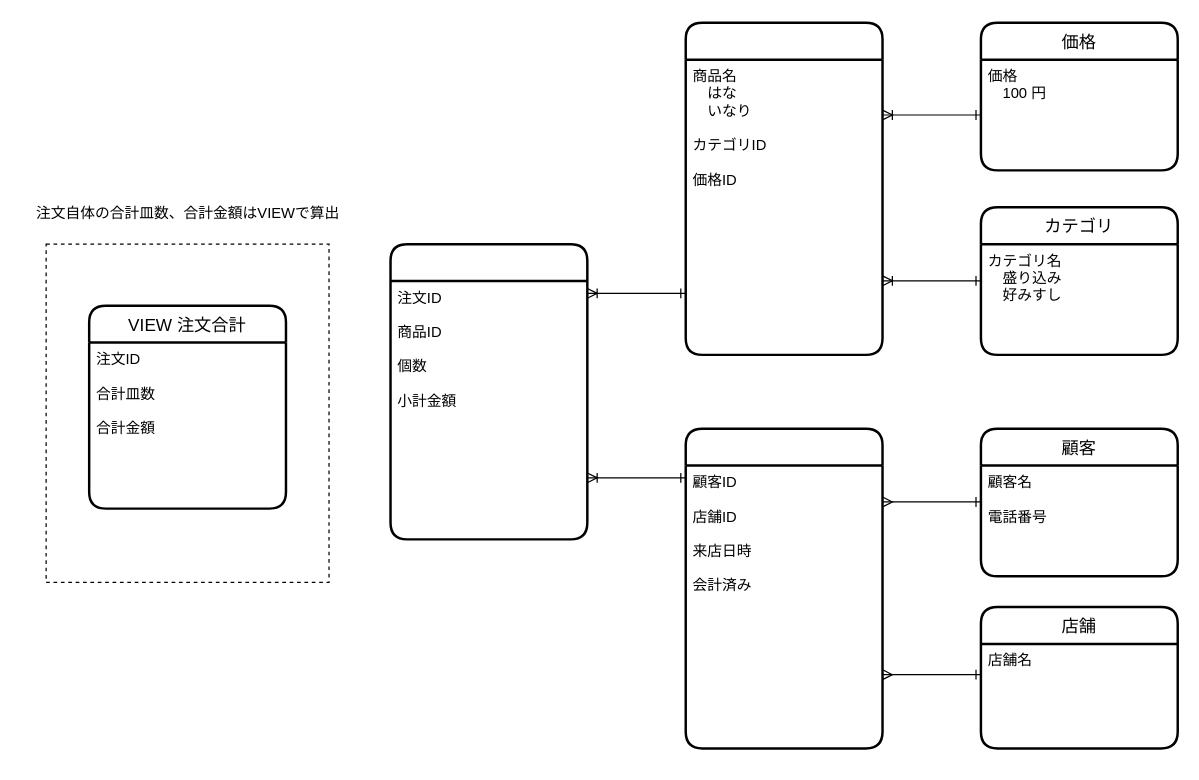
This 1199x780 diagram has some shape labels left out. The box of each missing label's shape, as (x1, y1, x2, y2) in pixels:
商品: (684, 21, 883, 355)
注文: (684, 427, 883, 749)
注文_商品: (389, 242, 588, 540)
